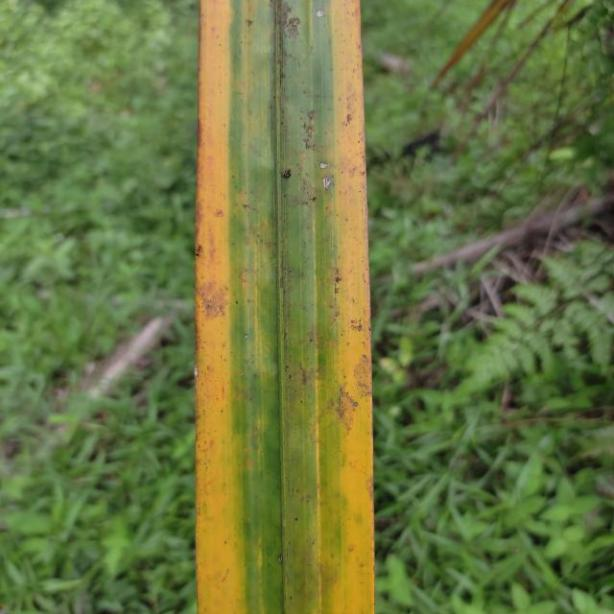Megnesium: (200, 0, 374, 614)
